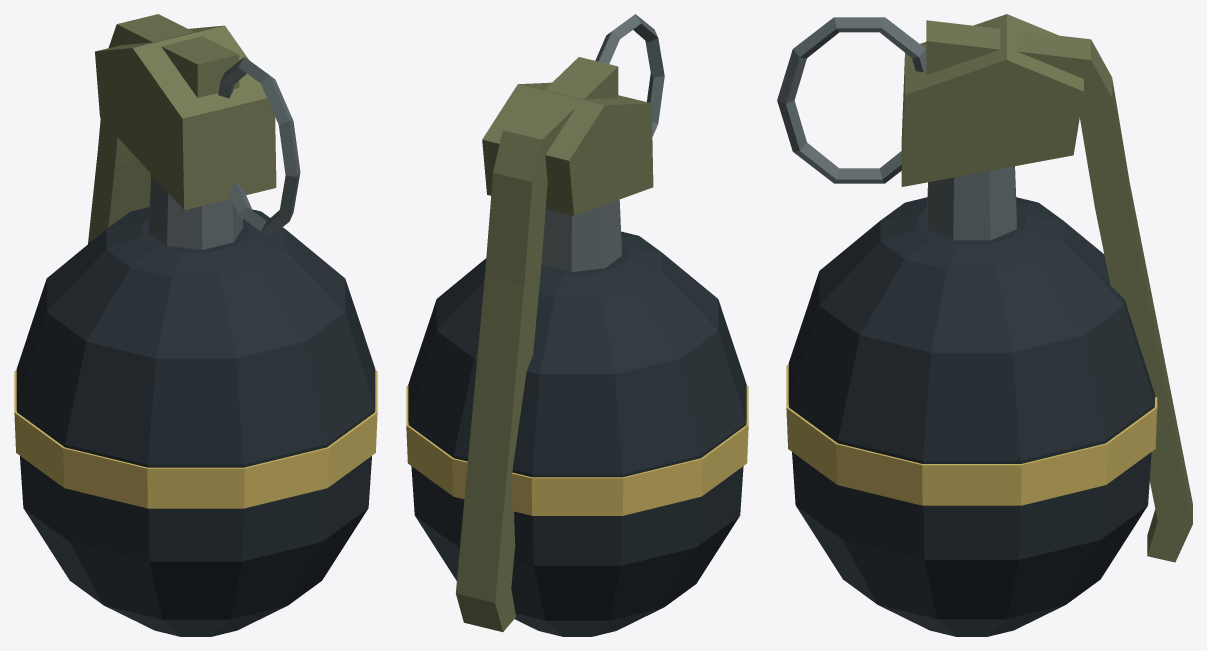
Rendered from grenade.glb.
The picture shows the model from 3 angles, left to right: view 1: azimuth 30°, elevation 25°; view 2: azimuth 150°, elevation 25°; view 3: azimuth 270°, elevation 25°; orthographic projection. The views are drawn at different scales.
Visible parts, largest first — view 1: Faceted_body_0, Top_cap_3, Yellow_band_1, Safety_lever_4, Pull_ring_5, Top_neck_2; view 2: Faceted_body_0, Safety_lever_4, Top_cap_3, Yellow_band_1, Top_neck_2, Pull_ring_5; view 3: Faceted_body_0, Safety_lever_4, Top_cap_3, Yellow_band_1, Pull_ring_5, Top_neck_2.
Boxes of the visible parts, x1=… form: Faceted_body_0: x1=16, y1=207, x2=375, y2=636; Top_cap_3: x1=95, y1=25, x2=276, y2=210; Yellow_band_1: x1=14, y1=370, x2=377, y2=508; Safety_lever_4: x1=88, y1=14, x2=239, y2=243; Pull_ring_5: x1=218, y1=57, x2=300, y2=237; Top_neck_2: x1=148, y1=174, x2=243, y2=249; Faceted_body_0: x1=408, y1=231, x2=746, y2=636; Safety_lever_4: x1=455, y1=57, x2=618, y2=631; Top_cap_3: x1=482, y1=82, x2=653, y2=215; Yellow_band_1: x1=406, y1=385, x2=748, y2=515; Top_neck_2: x1=541, y1=199, x2=621, y2=271; Pull_ring_5: x1=595, y1=14, x2=664, y2=136; Faceted_body_0: x1=788, y1=197, x2=1154, y2=636; Safety_lever_4: x1=926, y1=20, x2=1192, y2=562; Top_cap_3: x1=901, y1=14, x2=1083, y2=186; Yellow_band_1: x1=786, y1=364, x2=1157, y2=505; Pull_ring_5: x1=777, y1=17, x2=926, y2=183; Top_neck_2: x1=926, y1=166, x2=1016, y2=240.
Bounding box in the file's own units: 0.1057 × 0.1882 × 0.1185.
